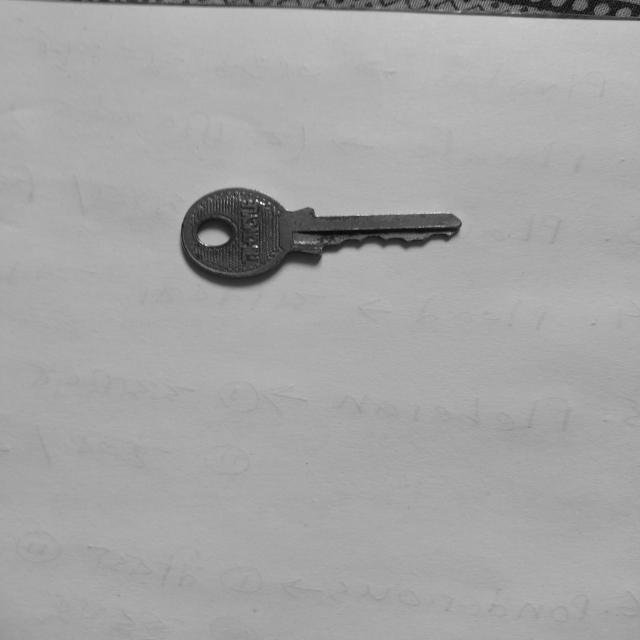key: (181, 188, 461, 277)
